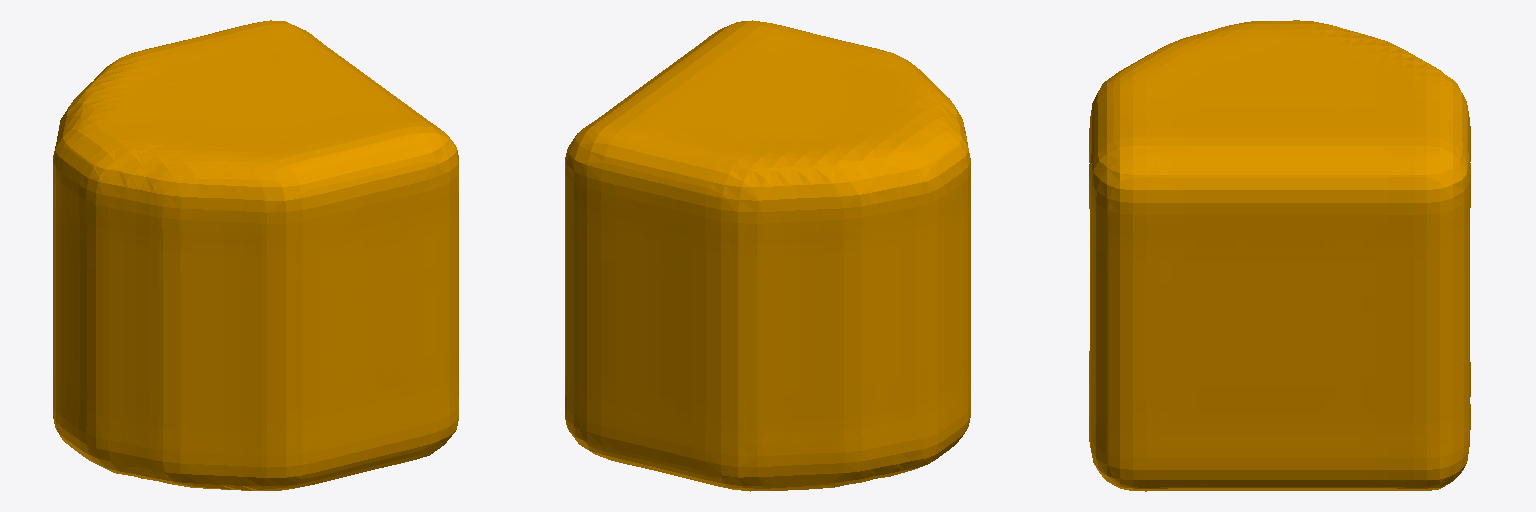
The robot description file, URDF, robot "object":
<?xml version="1.0"?>
<robot name="object">
  <link name="object">
    <visual>
      <origin xyz="0 0 0"/>
      <geometry>
        <mesh filename="meshes/subset_100_scaled/egad_M03_3_s.obj" scale=".03 .03 .03"/>
      </geometry>
    </visual>
    <collision>
  <origin xyz="0 0 0"/>
  <geometry>
    <mesh filename="meshes/subset_100_scaled/egad_M03_3_s_0decompose.obj" scale=".03 .03 .03"/>
<!--          <mesh filename="meshes/custom/obj0_ball.obj" scale=".05 .05 .05"/>-->
  </geometry>
</collision>

<!--    <collision>-->
<!--      <origin xyz="0 0 0"/>-->
<!--      <geometry>-->
<!--        <mesh filename="meshes/subset_100_scaled/egad_M03_3_s.obj" scale=".03 .03 .03"/>-->
<!--&lt;!&ndash;          <mesh filename="meshes/custom/obj0_ball.obj" scale=".05 .05 .05"/>&ndash;&gt;-->
<!--      </geometry>-->
<!--    </collision>-->
    <inertial>
      <density value="1000.0"/>
    </inertial>
  </link>
</robot>

--- What the picture shows (computed from the rendered views, not written in the file) ---
3 views of the same robot in one strip: view 1: azimuth 30°, elevation 25°; view 2: azimuth 150°, elevation 25°; view 3: azimuth 270°, elevation 25° (orthographic).
Model object with 1 links and 0 joints (none), rooted at object, posed all joints at 0.
Links seen in each view (by area): view 1: object; view 2: object; view 3: object.
Boxes of the visible links, x1,y1,x2,y2 form: object: (53,20,458,490); object: (565,20,970,491); object: (1089,20,1470,491).
Size in the robot's own frame: 0.06 by 0.06 by 0.06 metres.
Meshes: 1 distinct files referenced, 1 mesh visuals loaded (1 OBJ).
